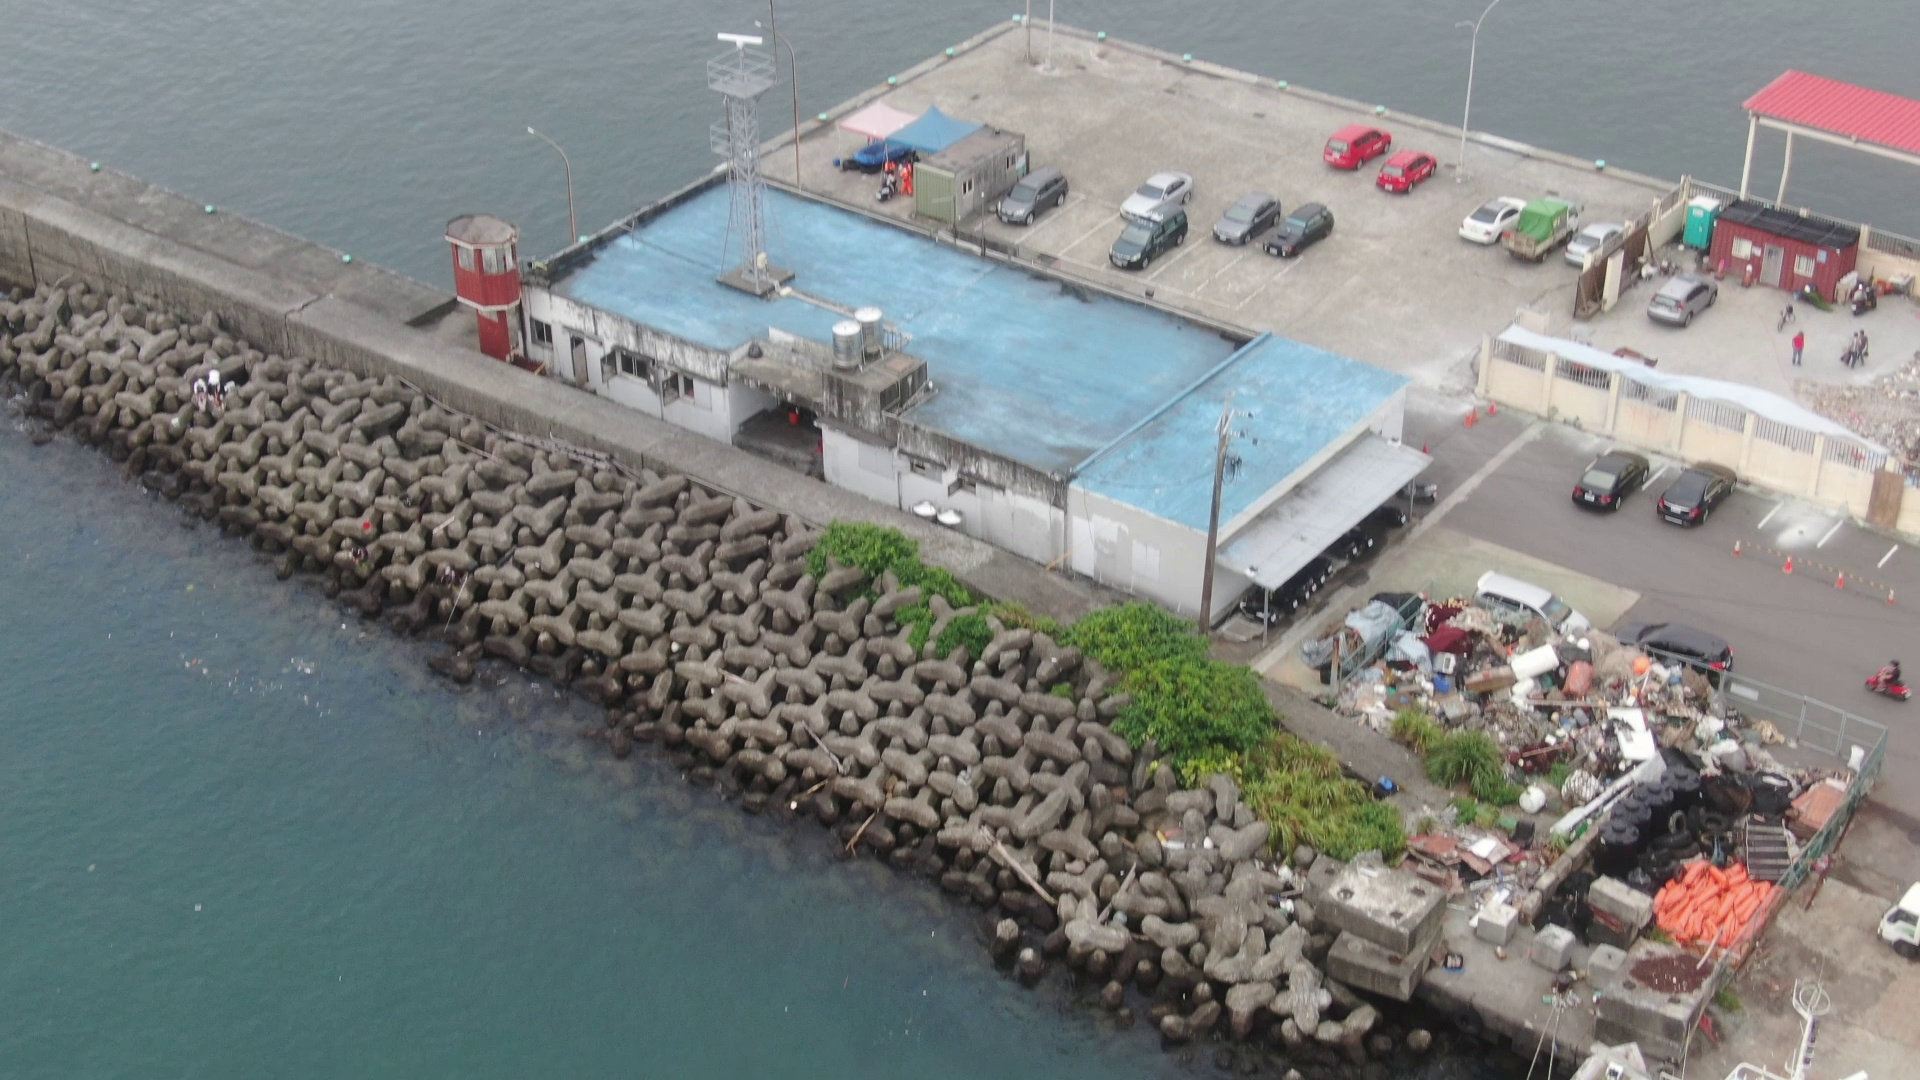garbage: (1356, 603, 1846, 953), (178, 356, 241, 407)
